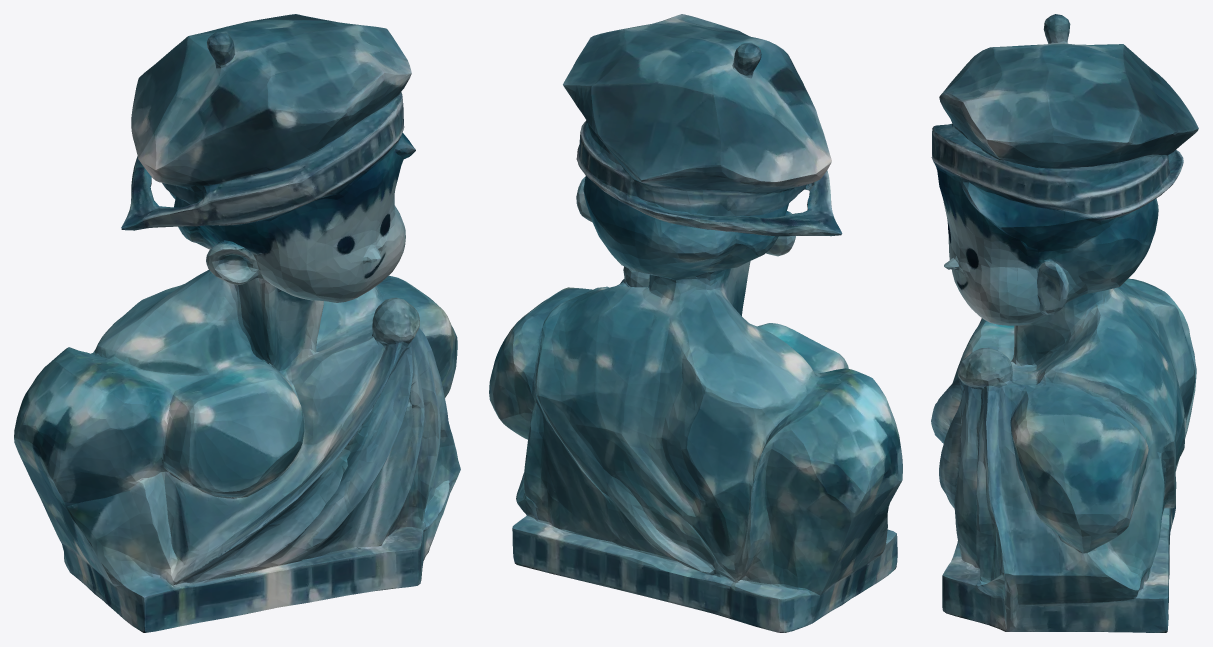
File: crystal.glb
3 renders of one model, left to right at view 1: azimuth 30°, elevation 25°; view 2: azimuth 150°, elevation 25°; view 3: azimuth 270°, elevation 25°, orthographic. The views are drawn at different scales.
Visible parts, largest first — view 1: geometry_0; view 2: geometry_0; view 3: geometry_0.
Boxes of the visible parts, bbox=[...] form: geometry_0: bbox=[14, 14, 460, 632]; geometry_0: bbox=[489, 14, 902, 632]; geometry_0: bbox=[931, 14, 1198, 632].
Size of the model in its own units: 0.7894 by 1 by 0.4585.
1 material, 1 textured.
